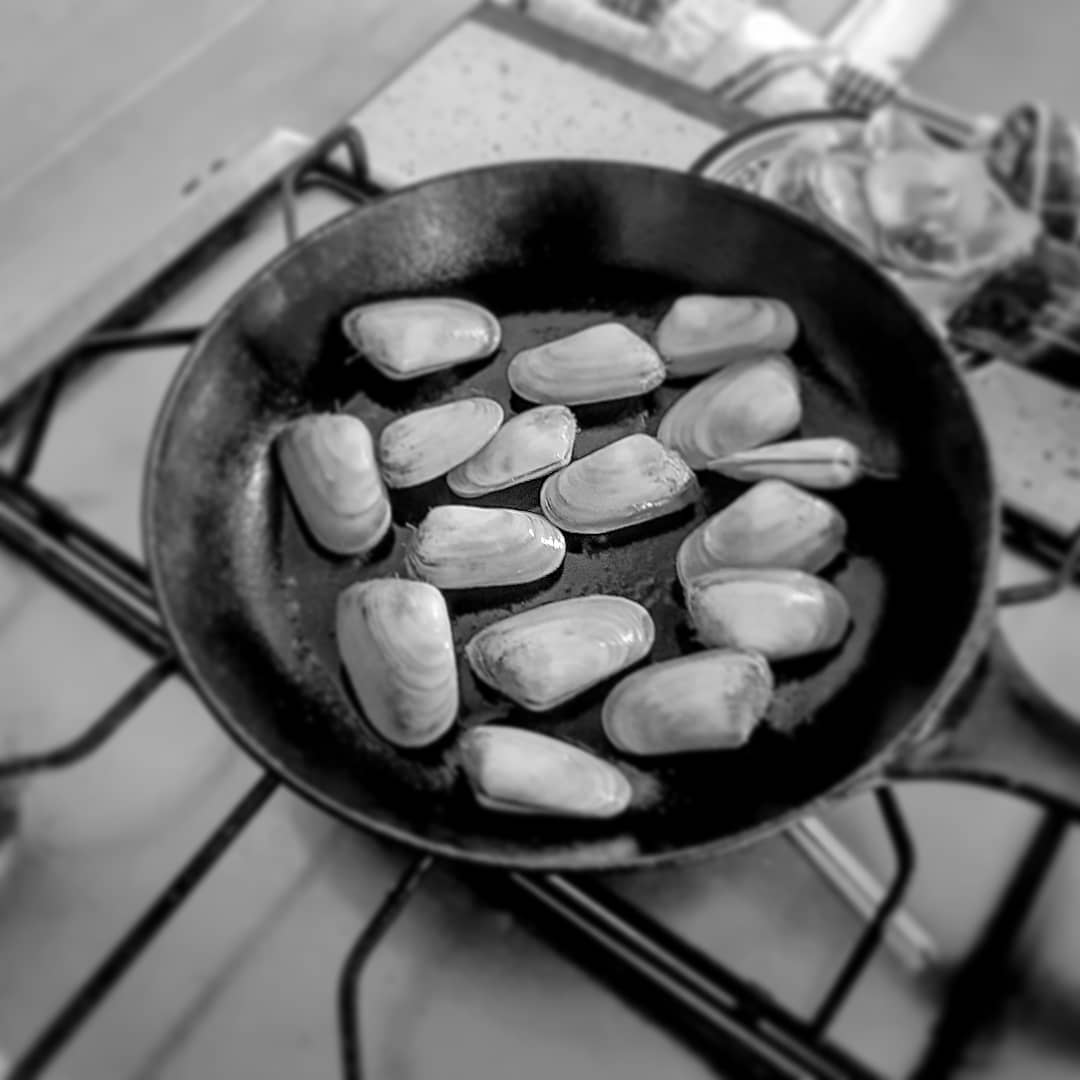tuatua: (469, 594, 663, 715), (333, 575, 467, 746), (597, 644, 771, 757), (671, 481, 845, 592), (270, 408, 397, 556), (459, 722, 636, 825), (655, 350, 805, 468), (533, 429, 697, 536), (340, 284, 511, 384), (505, 316, 666, 409), (681, 568, 855, 654), (407, 496, 566, 589), (655, 291, 797, 381), (374, 396, 507, 487), (452, 401, 584, 489), (709, 433, 866, 489)
